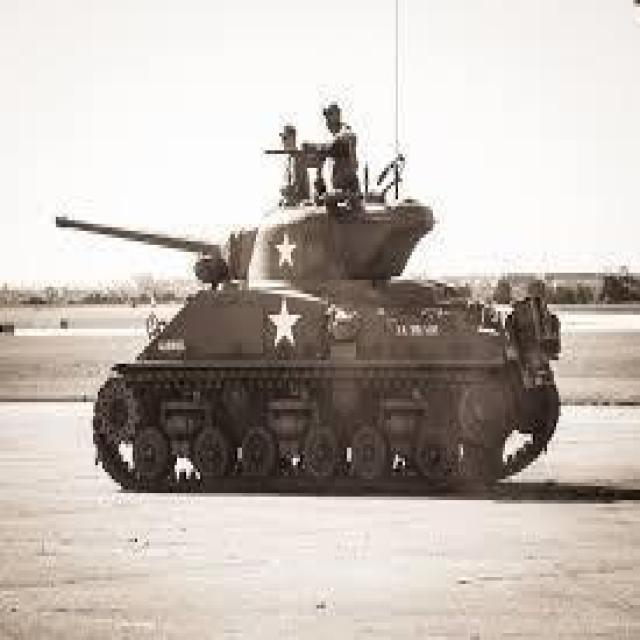MIL_MBT: (15, 38, 569, 577)
